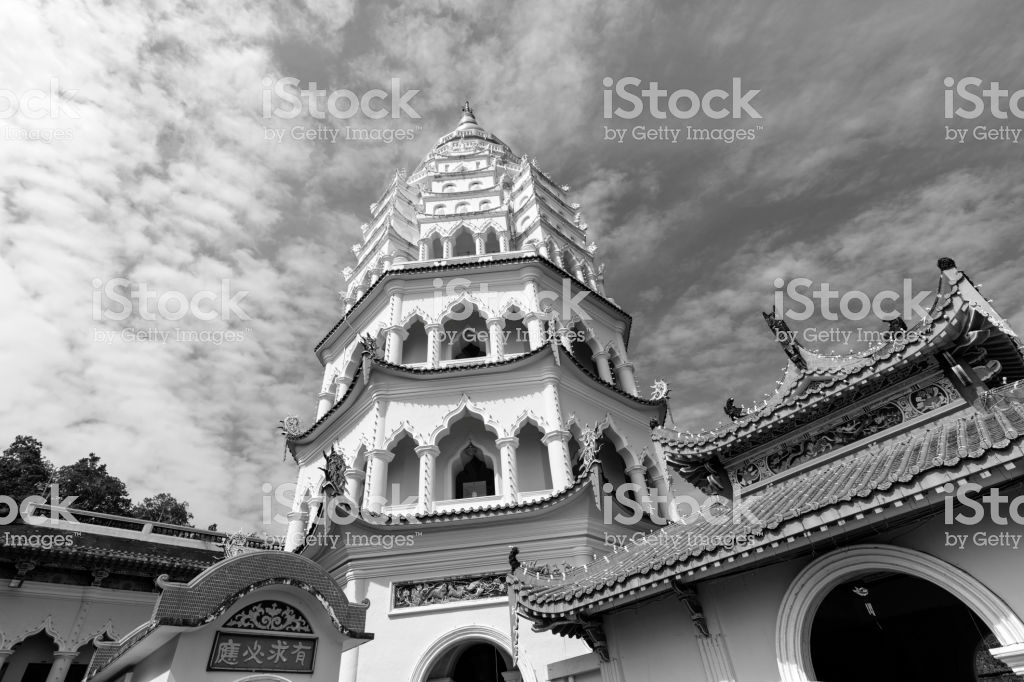Buddhist Temple: (296, 81, 630, 565)
